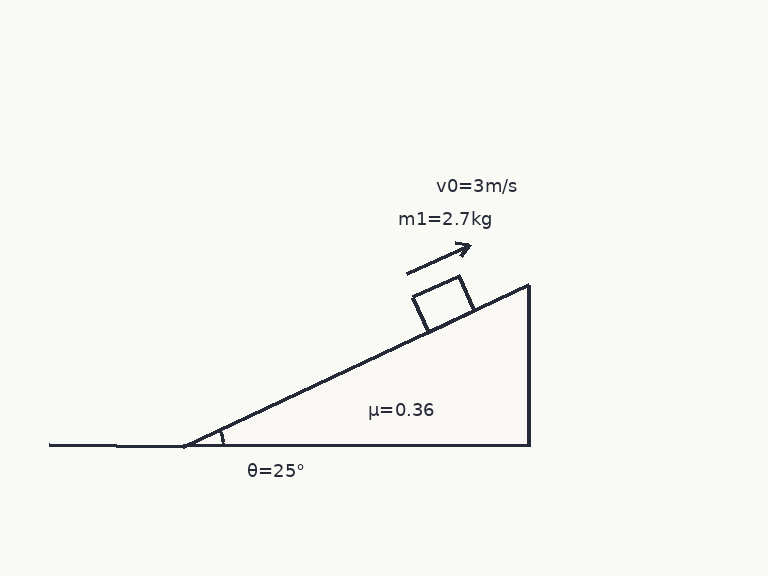block: (410, 274, 476, 334)
ramp: (181, 283, 530, 448)
